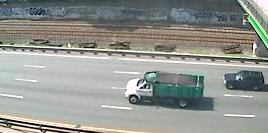car: (123, 69, 210, 109), (222, 68, 268, 92)
